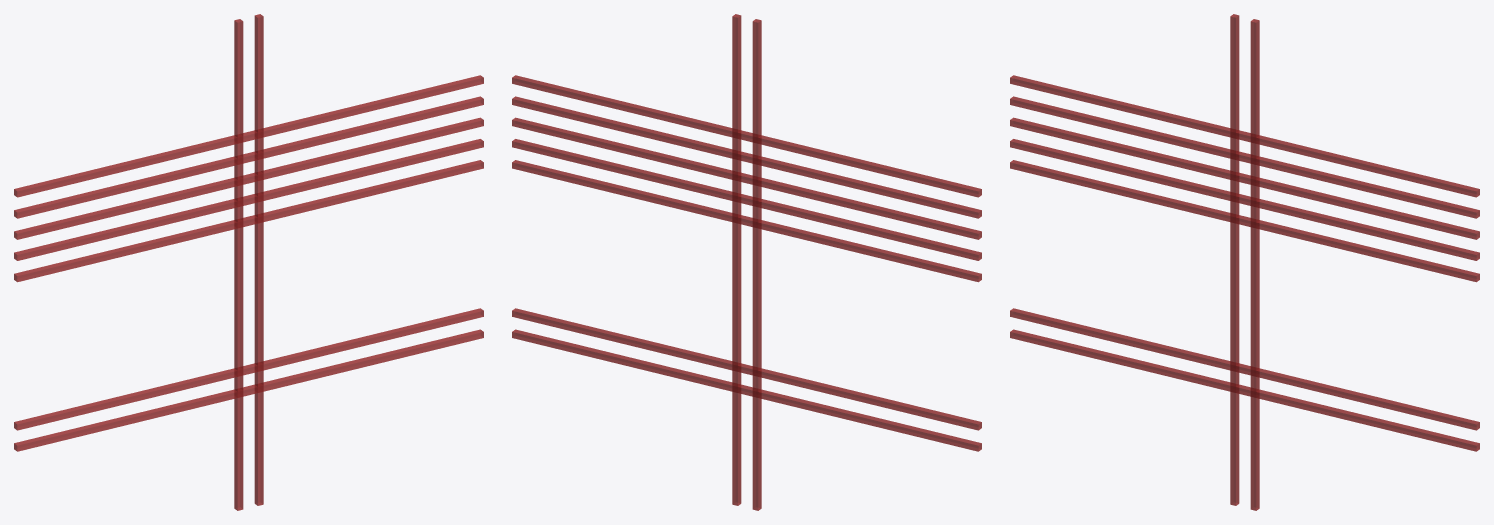
The model's file is Lvl_027.fbx.
3 renders of one model, left to right at view 1: azimuth 30°, elevation 25°; view 2: azimuth 150°, elevation 25°; view 3: azimuth 330°, elevation 25°, orthographic.
Parts seen in each view (by area): view 1: pCube2, pCube7, pCube22, pCube1, pCube12, pCube21, pCube23, pCube19, pCube20; view 2: pCube2, pCube7, pCube22, pCube1, pCube12, pCube19, pCube21, pCube23, pCube20; view 3: pCube7, pCube2, pCube22, pCube1, pCube12, pCube19, pCube21, pCube23, pCube20.
Part boxes in pixels (x1,y1,x2,y2): pCube2: (234, 19, 243, 510); pCube7: (254, 14, 263, 505); pCube22: (14, 96, 483, 218); pCube1: (14, 329, 483, 451); pCube12: (14, 308, 483, 430); pCube21: (14, 117, 483, 239); pCube23: (14, 75, 483, 197); pCube19: (14, 160, 483, 282); pCube20: (14, 139, 483, 260); pCube2: (752, 19, 761, 510); pCube7: (732, 14, 741, 505); pCube22: (512, 96, 981, 218); pCube1: (512, 329, 981, 451); pCube12: (512, 308, 981, 430); pCube19: (512, 160, 981, 282); pCube21: (512, 117, 981, 239); pCube23: (512, 75, 981, 197); pCube20: (512, 139, 981, 260); pCube7: (1250, 19, 1259, 510); pCube2: (1230, 14, 1239, 505); pCube22: (1010, 96, 1479, 218); pCube1: (1010, 329, 1479, 451); pCube12: (1010, 308, 1479, 430); pCube19: (1010, 160, 1479, 282); pCube21: (1010, 117, 1479, 239); pCube23: (1010, 75, 1479, 197); pCube20: (1010, 139, 1479, 260).
Size of the model in its own units: 2000 by 2000 by 25.
